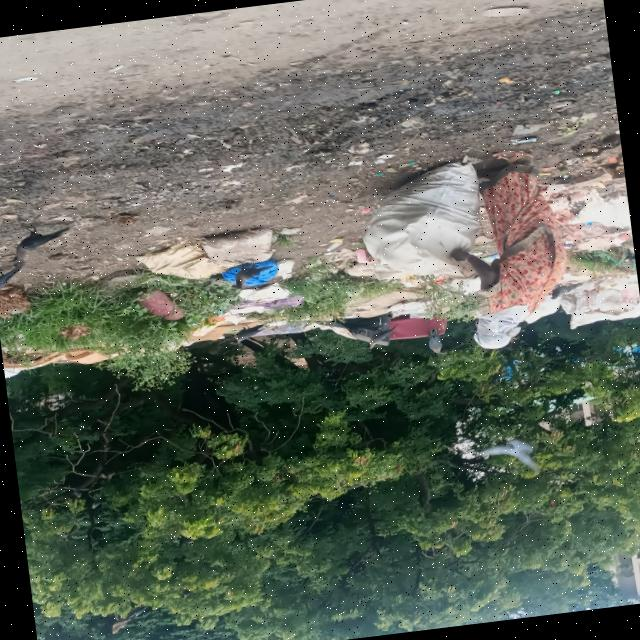garbage: (141, 213, 447, 368), (539, 151, 640, 328), (0, 321, 110, 380)
